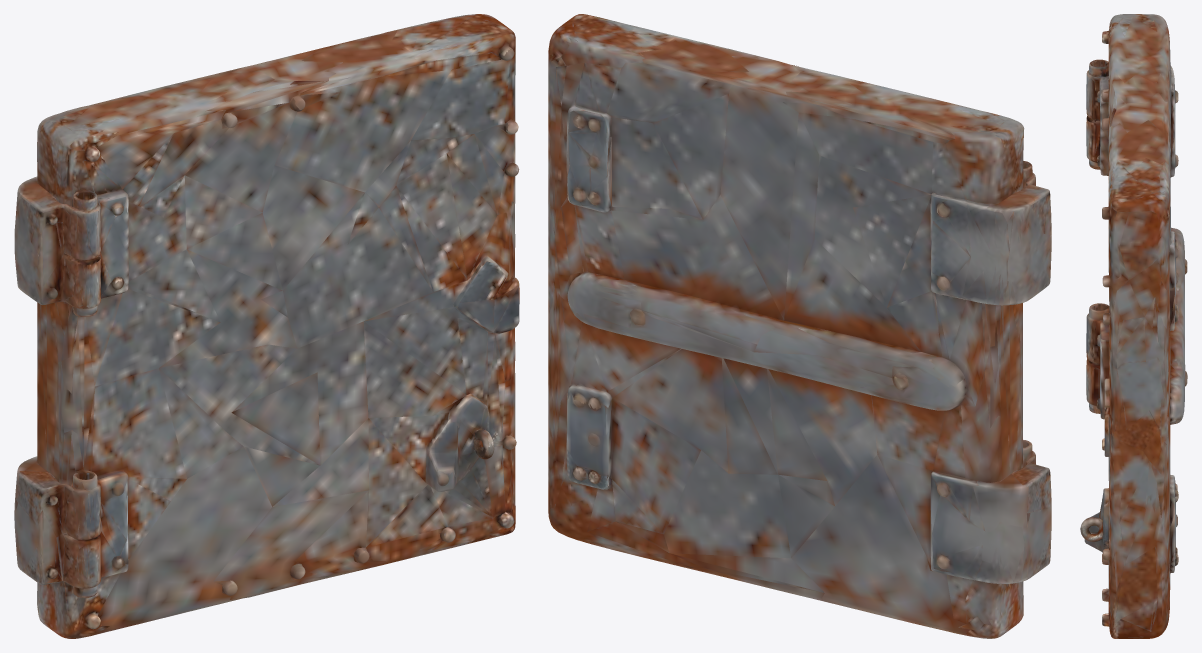
The model's file is bb_hatch.488b7858ff.glb.
3 renders of one model, left to right at view 1: azimuth 30°, elevation 25°; view 2: azimuth 150°, elevation 25°; view 3: azimuth 270°, elevation 25°, orthographic. The views are drawn at different scales.
Visible parts, largest first — view 1: bb_hatch; view 2: bb_hatch; view 3: bb_hatch.
Part boxes in pixels (x1,y1,x2,y2): bb_hatch: (14,14,519,638); bb_hatch: (548,14,1051,638); bb_hatch: (1080,14,1187,638).
Bounding box in the file's own units: 1.88 × 1.9 × 0.4192.
Materials: 1 (1 with a texture image).
